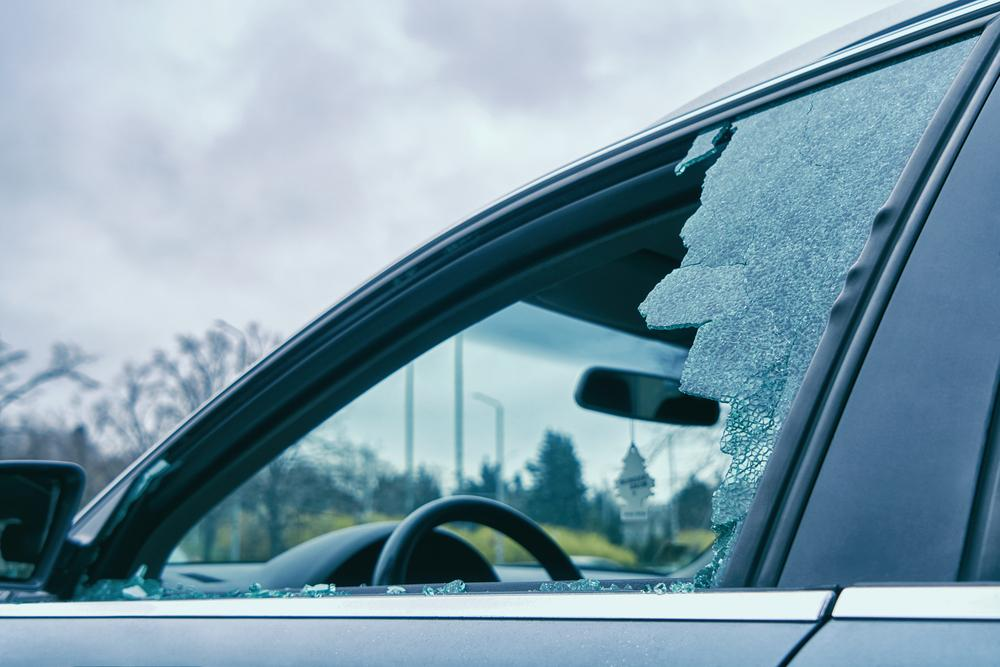glass shatter: (43, 34, 984, 601)
